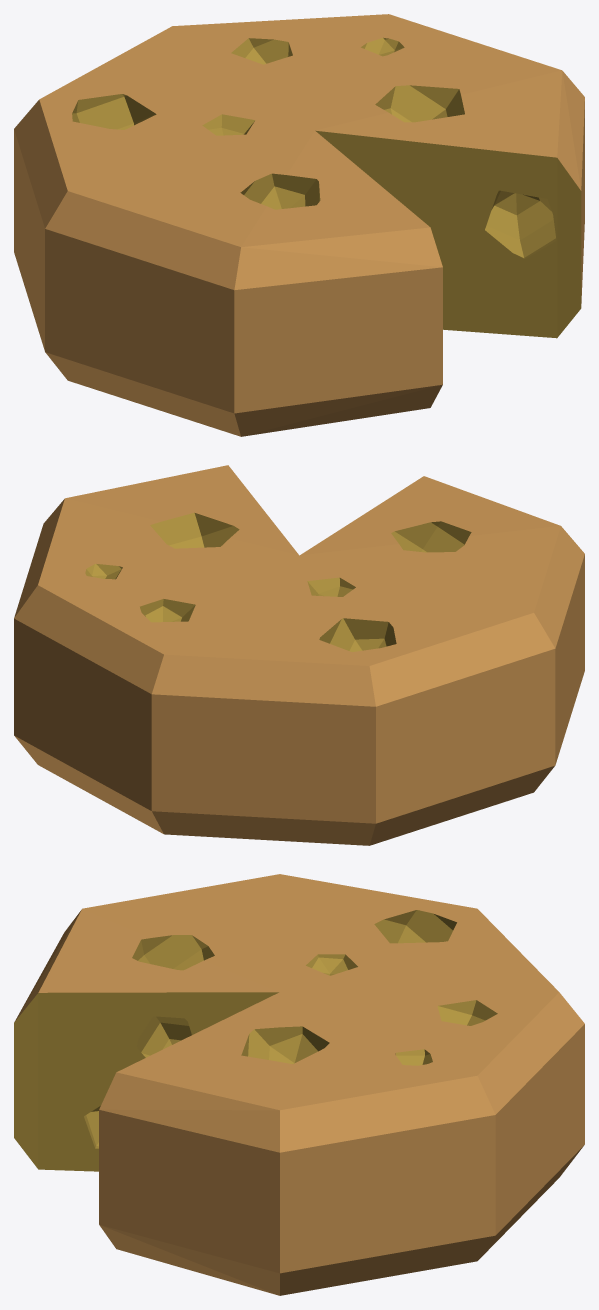
The model's file is cheese.glb.
3 views of the same model, one above another, from view 1: azimuth 30°, elevation 25°; view 2: azimuth 150°, elevation 25°; view 3: azimuth 270°, elevation 25° (orthographic). The views are drawn at different scales.
Parts seen in each view (by area): view 1: SM_Prop_Cheese_01; view 2: SM_Prop_Cheese_01; view 3: SM_Prop_Cheese_01.
Boxes of the visible parts, left/top/right/bottom form: SM_Prop_Cheese_01: left=14, top=14, right=584, bottom=436; SM_Prop_Cheese_01: left=14, top=465, right=584, bottom=845; SM_Prop_Cheese_01: left=14, top=874, right=584, bottom=1295.
Size of the model in its own units: 62.73 by 21.06 by 58.7.
1 material, 1 textured.
